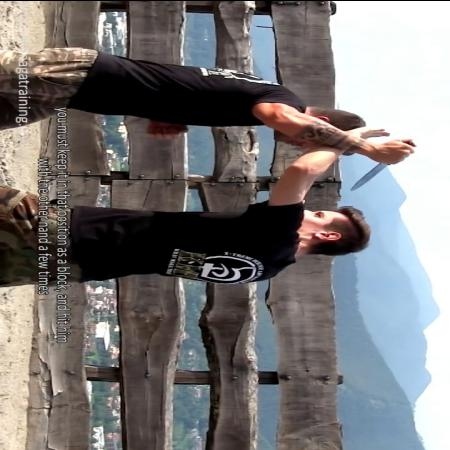long weapon: (348, 135, 422, 192)
